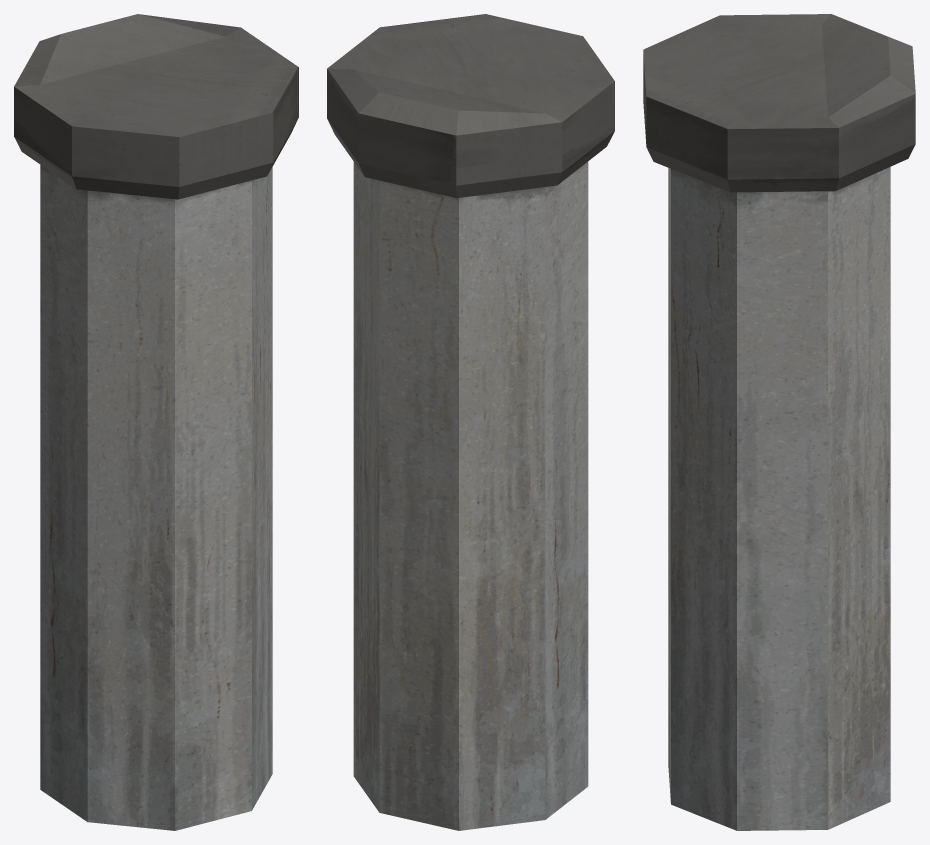
Rendered from block4_b1_roadSupport_MESH.fbx.
The picture shows the model from 3 angles, left to right: view 1: azimuth 30°, elevation 25°; view 2: azimuth 150°, elevation 25°; view 3: azimuth 270°, elevation 25°; orthographic projection.
Visible parts, largest first — view 1: block4_b1_roadSupport_MESH; view 2: block4_b1_roadSupport_MESH; view 3: block4_b1_roadSupport_MESH.
Boxes of the visible parts, bbox=[...] form: block4_b1_roadSupport_MESH: bbox=[14, 14, 298, 830]; block4_b1_roadSupport_MESH: bbox=[327, 14, 614, 830]; block4_b1_roadSupport_MESH: bbox=[643, 14, 915, 830].
Bounding box in the file's own units: 560 × 560 × 1646.
